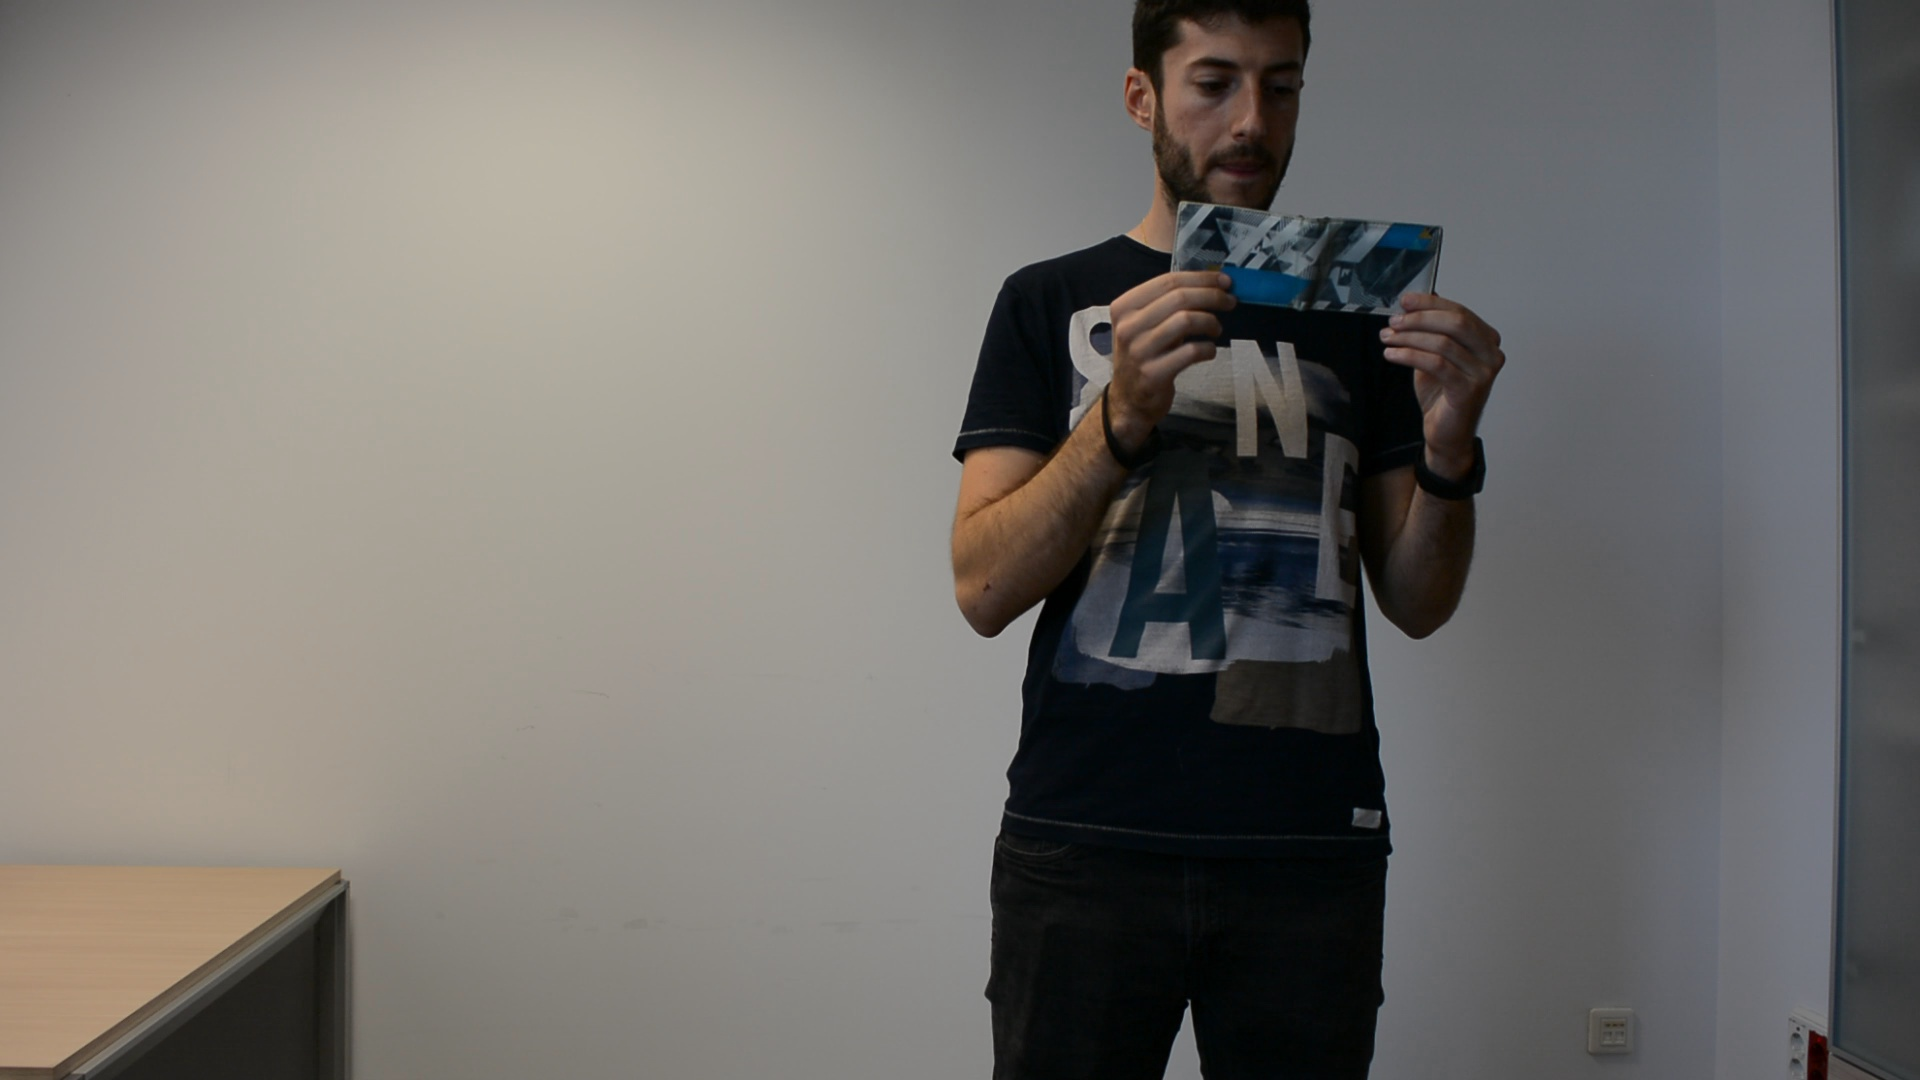monedero: (1166, 198, 1448, 319)
